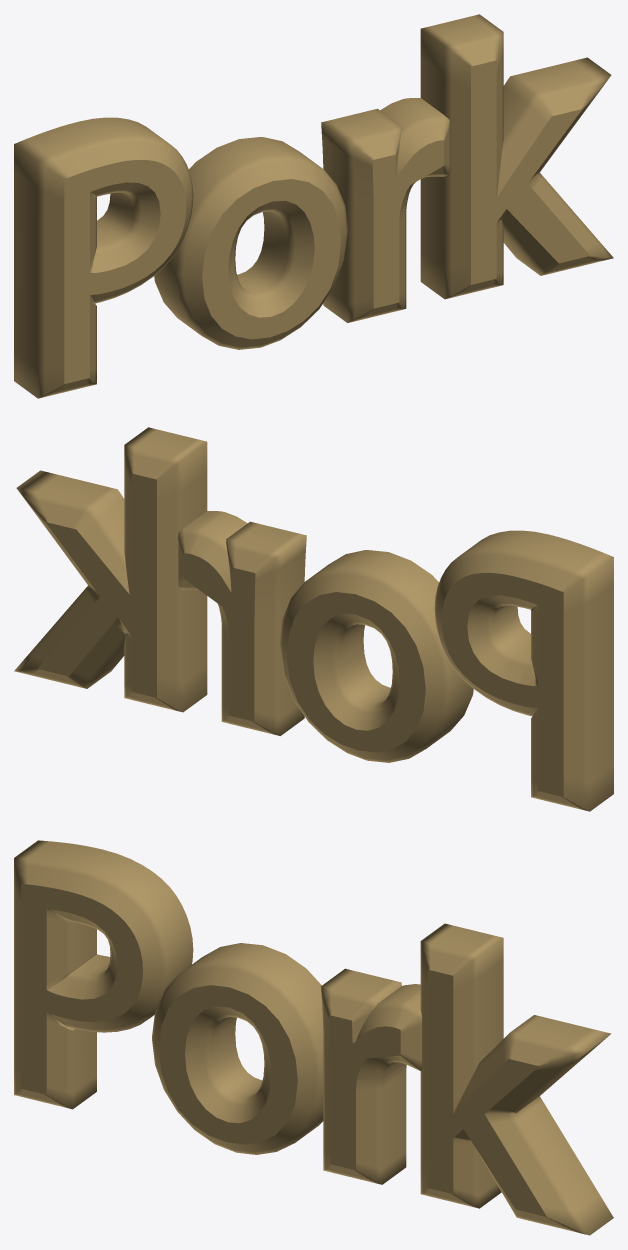
The model's file is pork.fbx.
3 renders of one model, top to bottom at view 1: azimuth 30°, elevation 25°; view 2: azimuth 150°, elevation 25°; view 3: azimuth 330°, elevation 25°, orthographic.
Parts seen in each view (by area): view 1: bevelPolygon5, bevelPolygon2, bevelPolygon3, bevelPolygon4; view 2: bevelPolygon5, bevelPolygon2, bevelPolygon3, bevelPolygon4; view 3: bevelPolygon5, bevelPolygon2, bevelPolygon3, bevelPolygon4.
Part boxes in pixels (bbox=[...]): bevelPolygon5: bbox=[420, 14, 613, 299]; bevelPolygon2: bbox=[14, 117, 193, 398]; bevelPolygon3: bbox=[154, 137, 347, 349]; bevelPolygon4: bbox=[321, 98, 449, 322]; bevelPolygon5: bbox=[14, 427, 207, 712]; bevelPolygon2: bbox=[434, 530, 613, 811]; bevelPolygon3: bbox=[280, 550, 473, 762]; bevelPolygon4: bbox=[178, 511, 306, 735]; bevelPolygon5: bbox=[420, 923, 613, 1235]; bevelPolygon2: bbox=[14, 840, 193, 1109]; bevelPolygon3: bbox=[152, 943, 323, 1154]; bevelPolygon4: bbox=[321, 968, 421, 1184].
Bounding box in the file's own units: 3.46 × 1.47 × 0.45.
